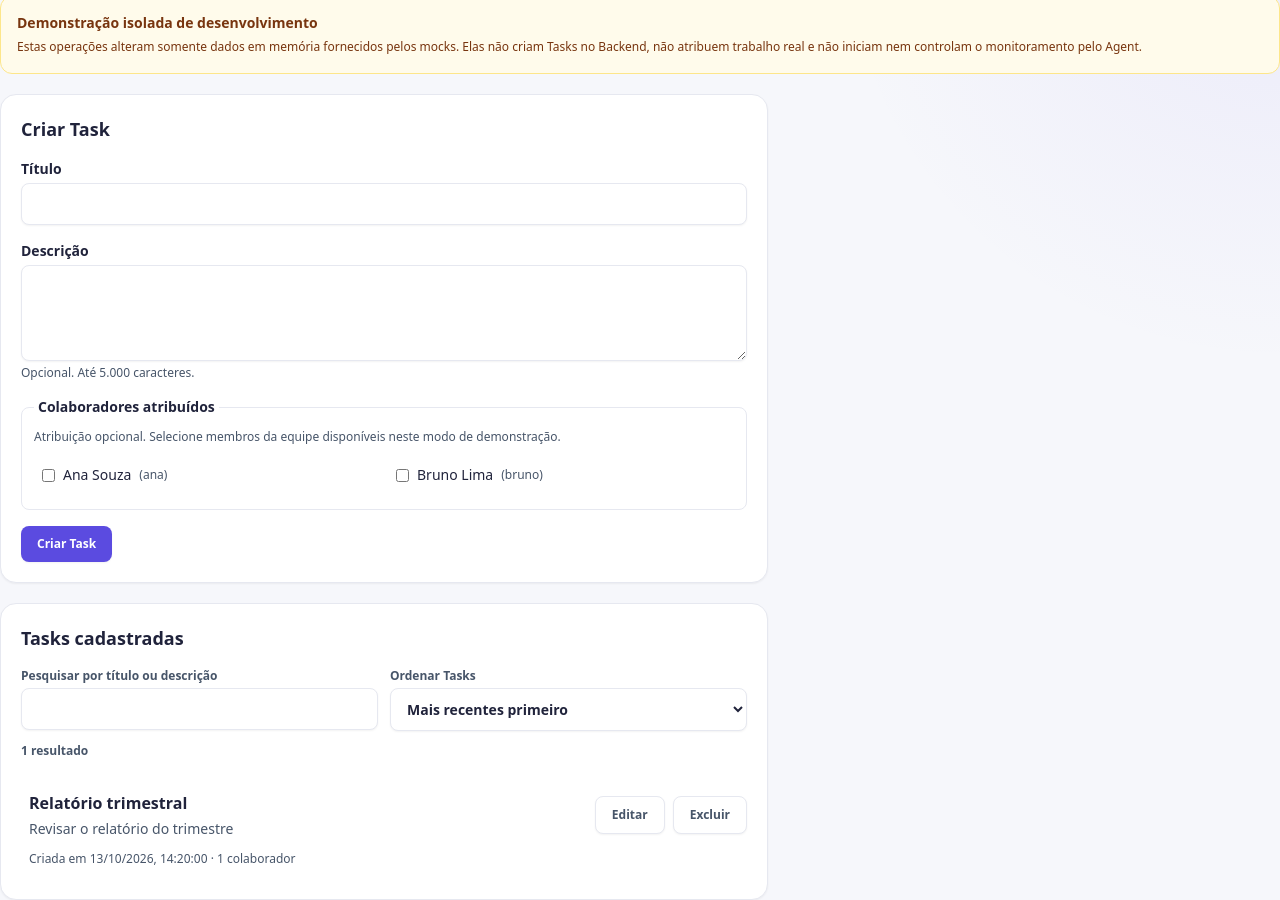
Test case: TasksPage › cancela e reabre a edição com os valores atuais da Task
(page scrolled)
Click the button with aria-label "Editar Task: Relatório trimestral".
click(630, 815)  # box [595,796,665,834]
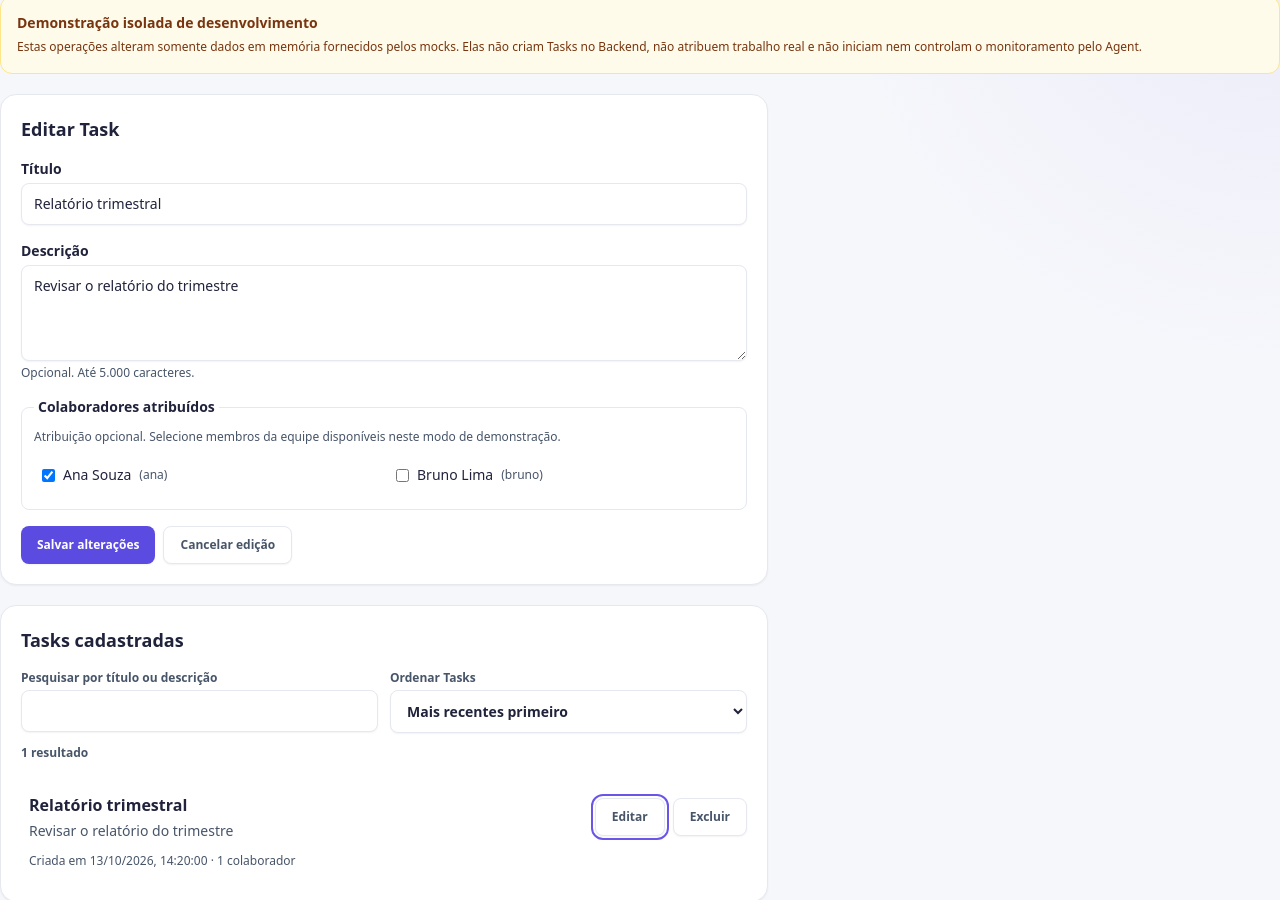
Replace the text in the field labelled "Título" with "Alteração descartada" at (384, 204), box [21,183,747,225]
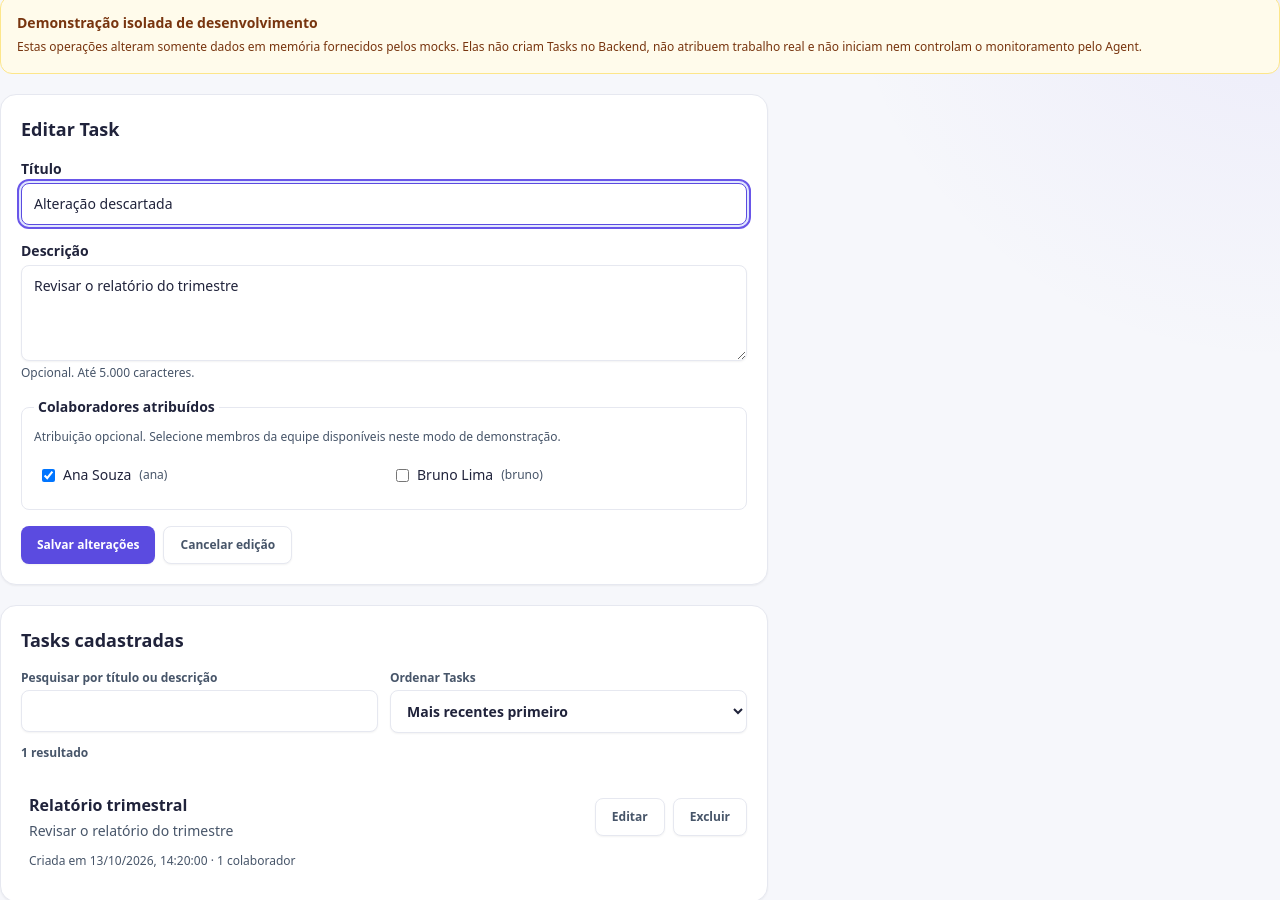
Click the button "Cancelar edição".
click(228, 545)  # box [164,526,292,564]
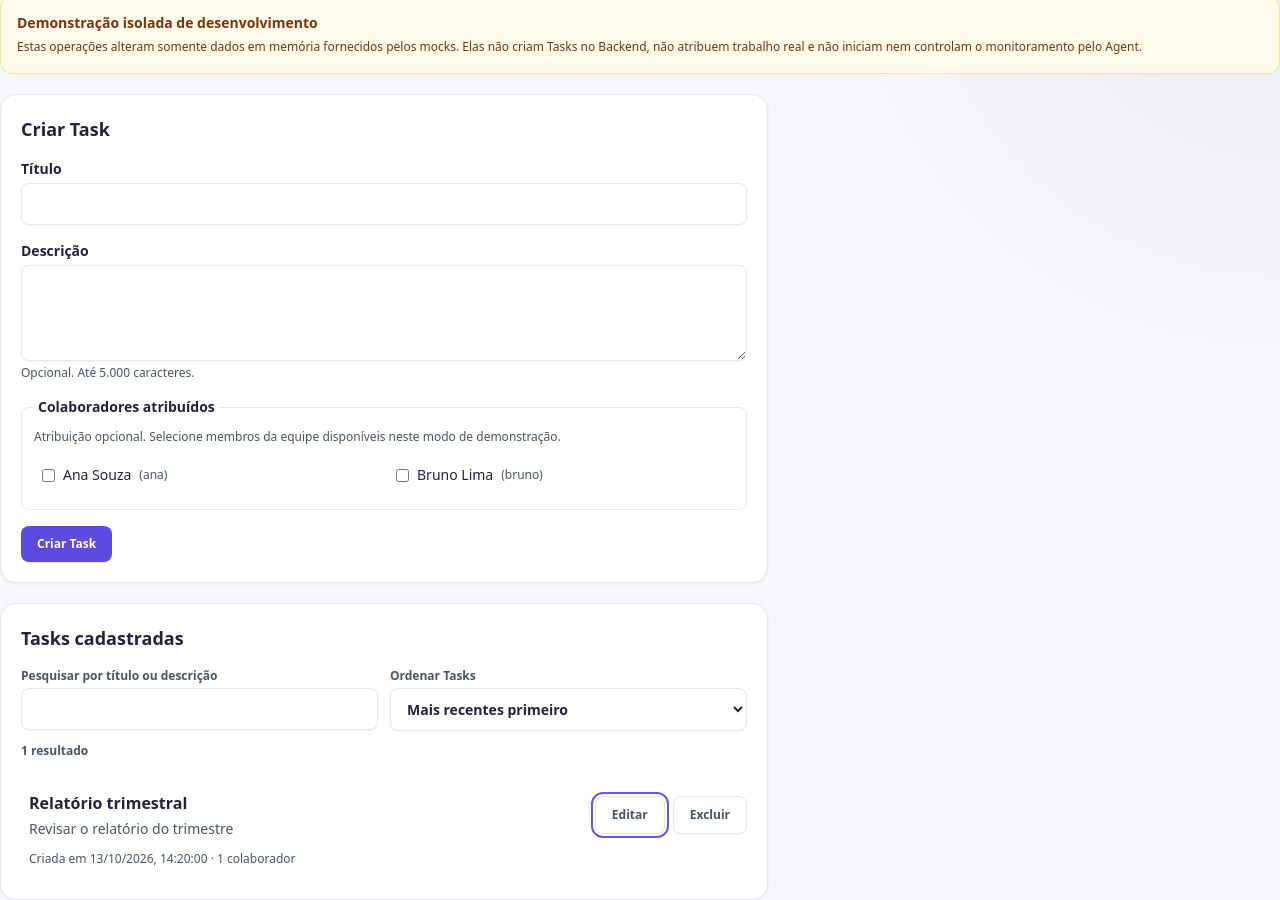
Click the button with aria-label "Editar Task: Relatório trimestral".
click(630, 815)  # box [595,796,665,834]
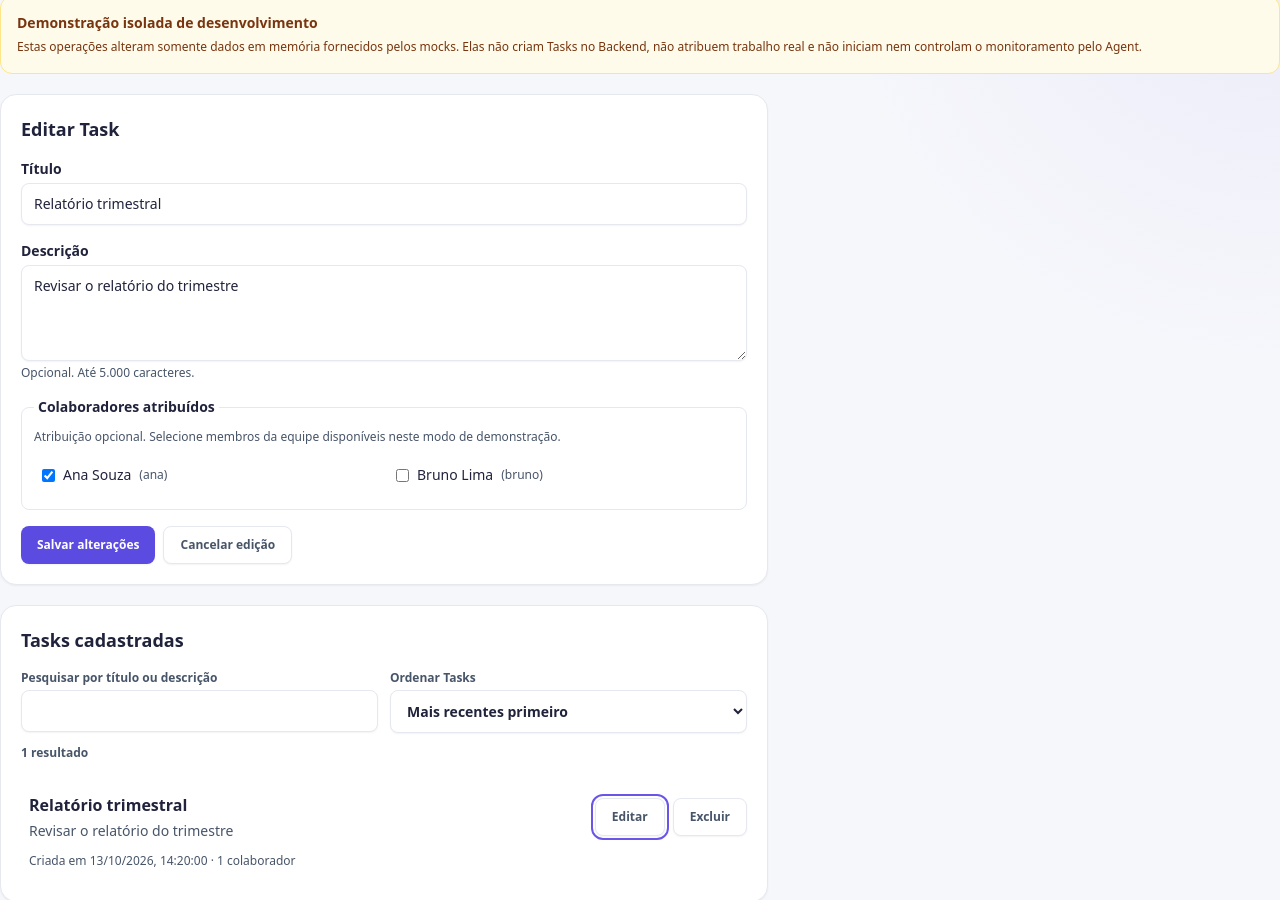
Check: the field labelled "Título" holds "Relatório trimestral", box [21,183,747,225]
